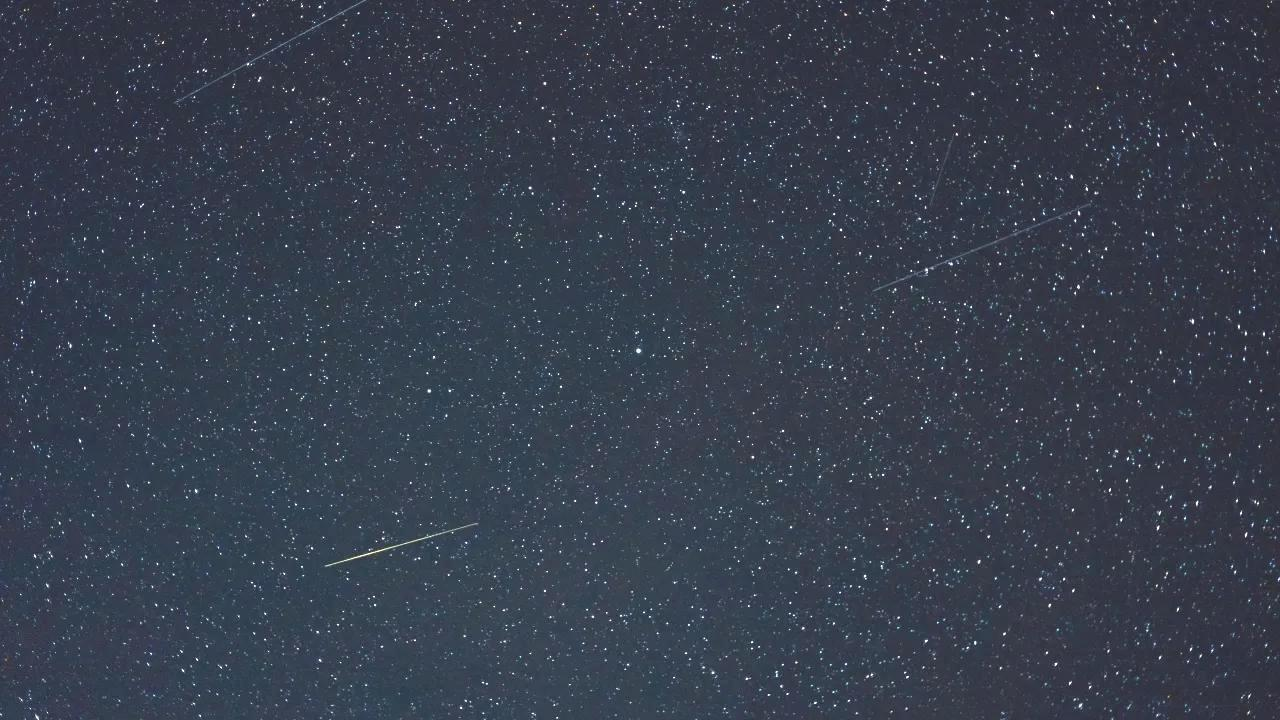meteorite: (149, 0, 393, 107), (861, 202, 1099, 305), (327, 510, 496, 571)
